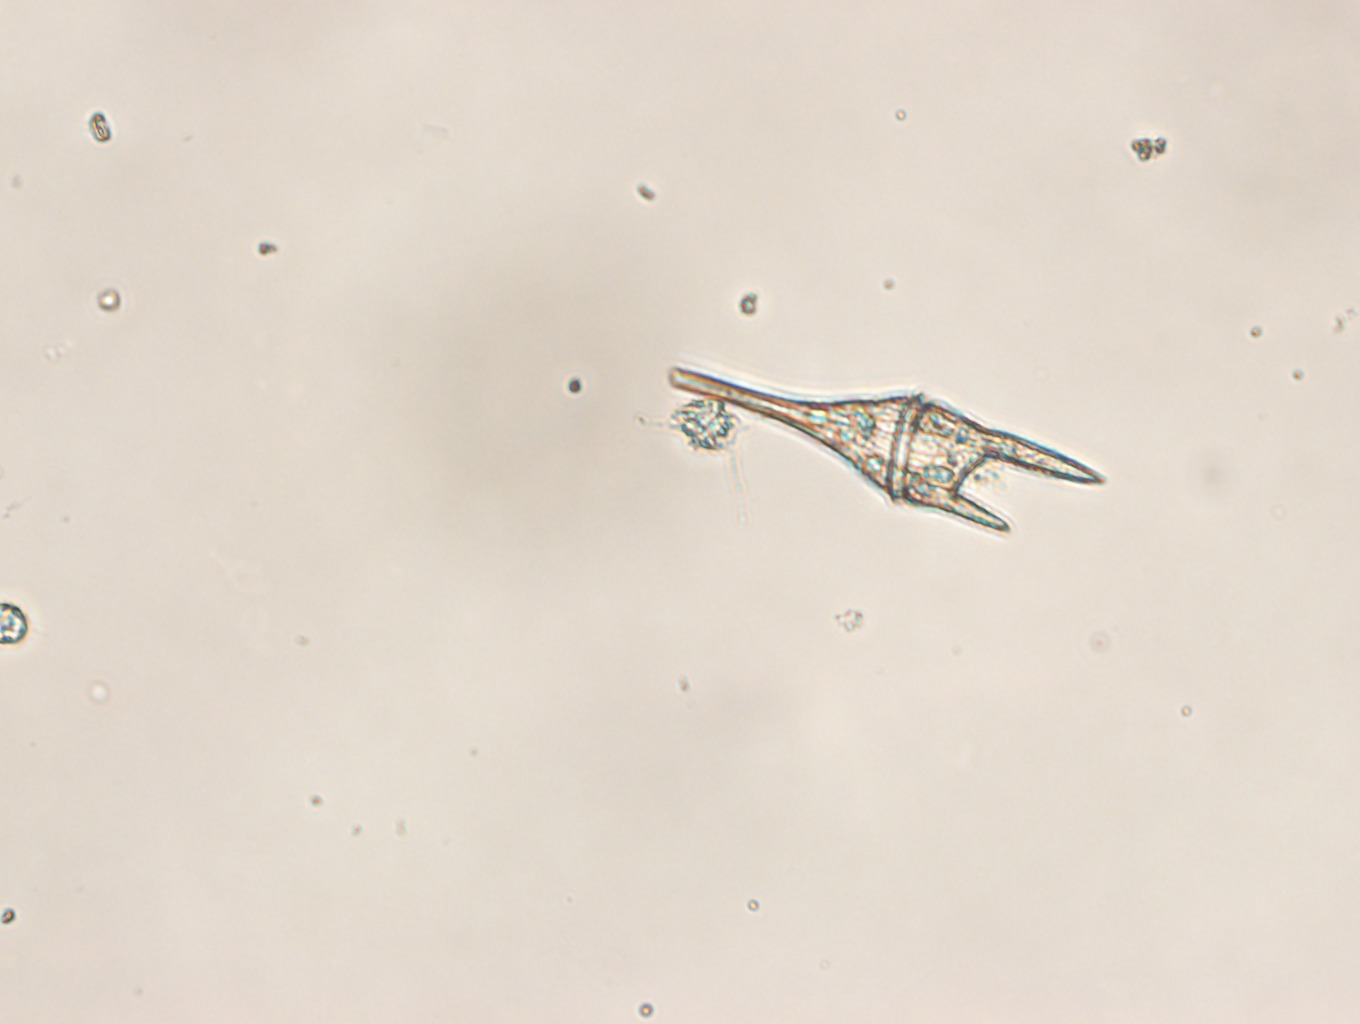ceratium furca: (667, 361, 1103, 534)
